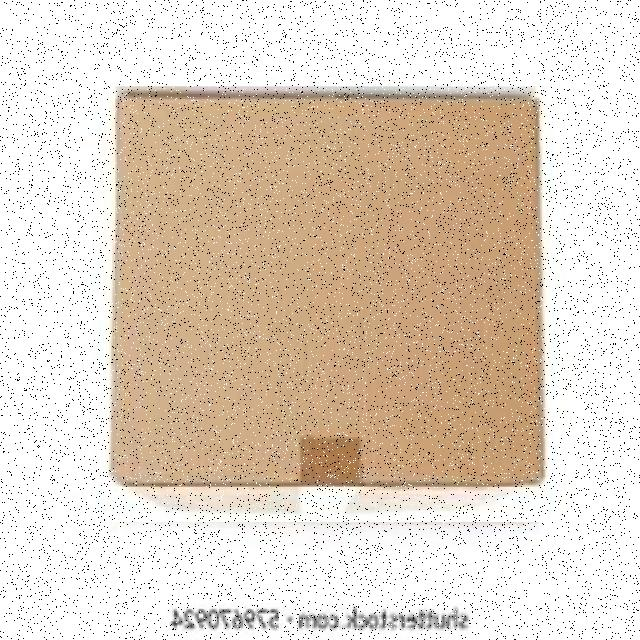normal: (106, 86, 548, 522)
